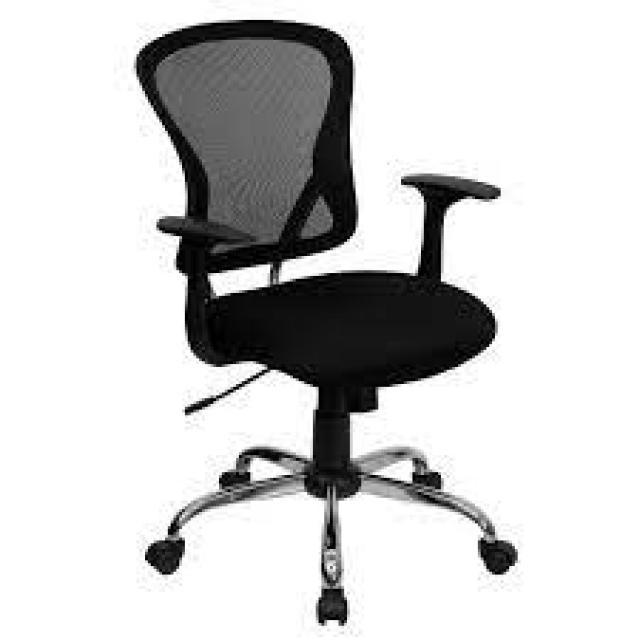chair: (129, 17, 519, 627)
